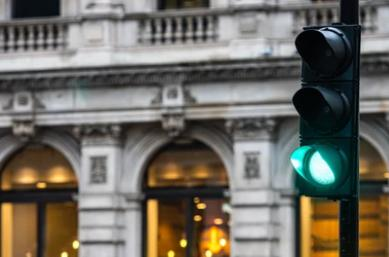green_light: (290, 24, 361, 195)
